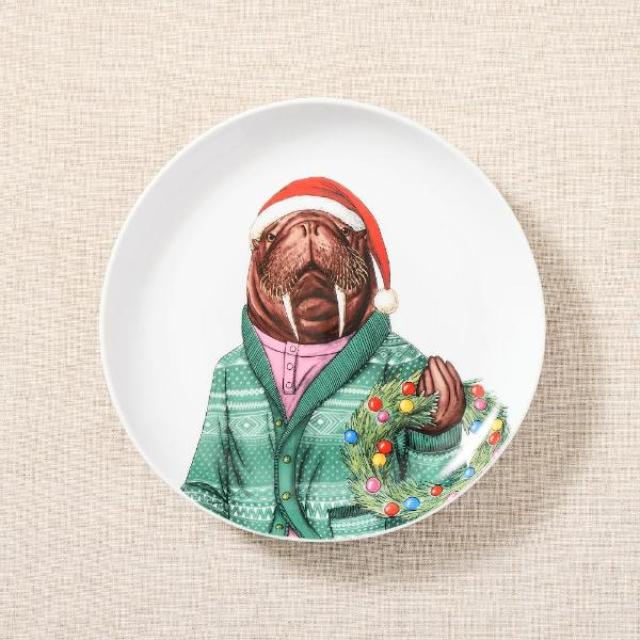walrus: (232, 204, 388, 345)
